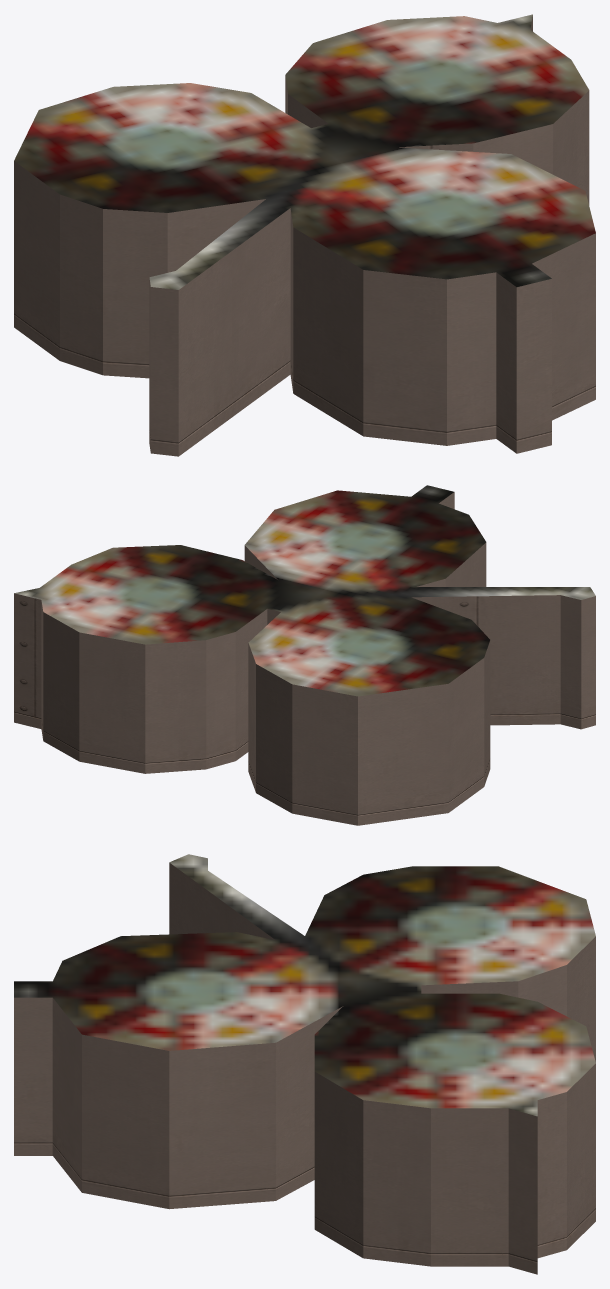
File: fuel_tank_hard_26.glb
The picture shows the model from 3 angles, top to bottom: view 1: azimuth 30°, elevation 25°; view 2: azimuth 150°, elevation 25°; view 3: azimuth 270°, elevation 25°; orthographic projection. The views are drawn at different scales.
Visible parts, largest first — view 1: buildings/saxarba/fuel_tanks/fuel_tank_hard_26; view 2: buildings/saxarba/fuel_tanks/fuel_tank_hard_26; view 3: buildings/saxarba/fuel_tanks/fuel_tank_hard_26.
Part boxes in pixels (x1,y1,x2,y2): buildings/saxarba/fuel_tanks/fuel_tank_hard_26: (14,14,595,456); buildings/saxarba/fuel_tanks/fuel_tank_hard_26: (14,485,595,825); buildings/saxarba/fuel_tanks/fuel_tank_hard_26: (14,854,595,1274).
Size of the model in its own units: 64 by 18 by 60.
